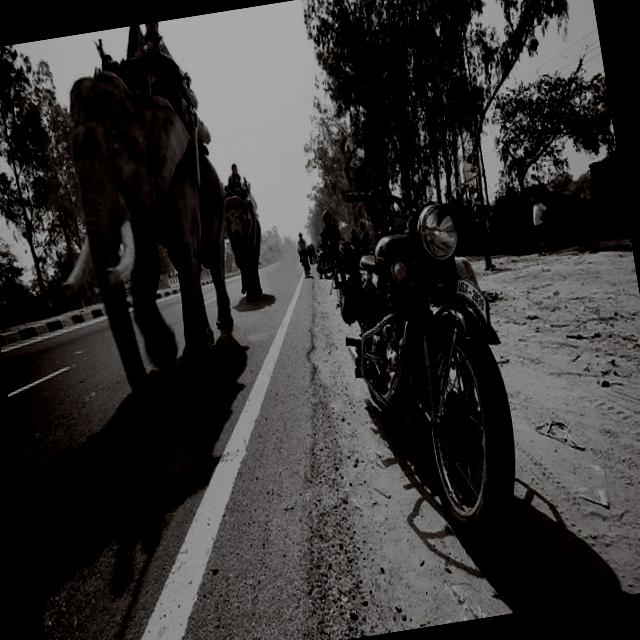Vehicle: (314, 157, 548, 577), (312, 247, 335, 282)
